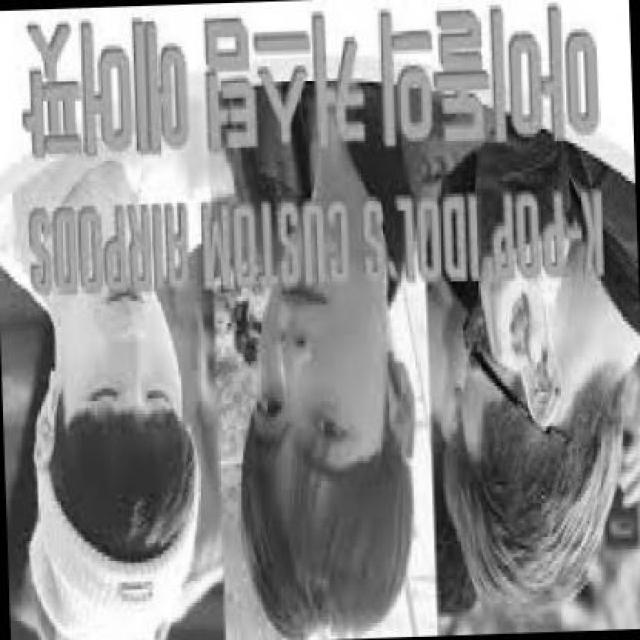earphone: (39, 360, 82, 444), (380, 332, 426, 410), (521, 320, 559, 380)
